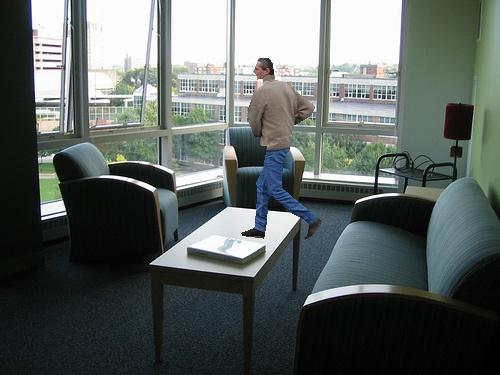tampered: (242, 59, 322, 240)
